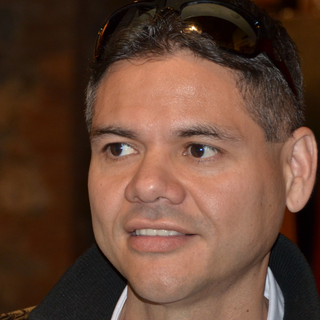eye: (178, 138, 226, 164), (99, 139, 142, 163)
